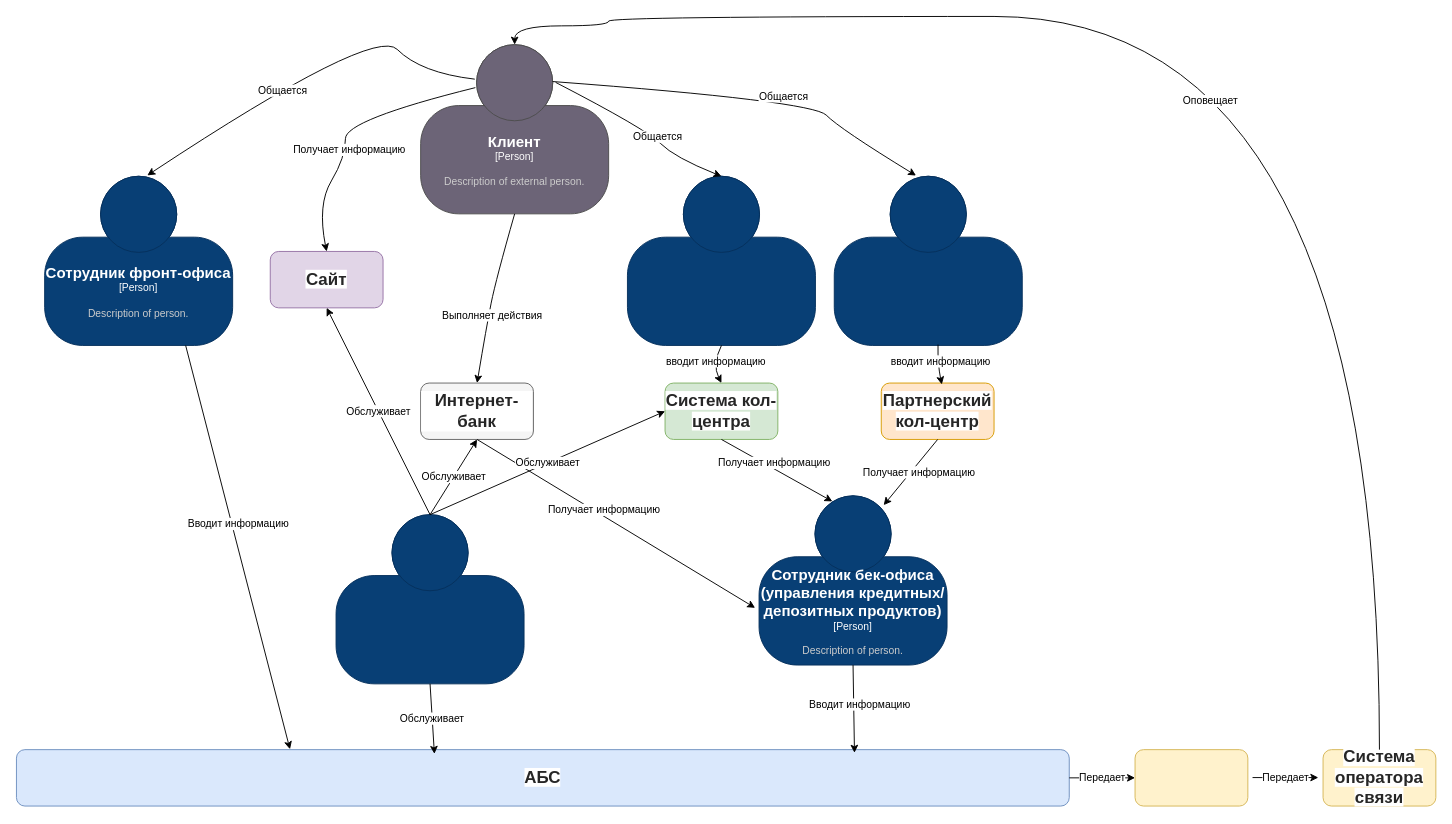
Image size: 1452x824. Some labels were removed from this diagram. Here are the shapes that lost their labels. From the top down, the centre of each, then its label:
At point 721,260: "Оператор кол-центра [Person] Description of person.".
At point 927,260: "Оператор внешнего кол-центра [Person] Description of person.".
At point 429,599: "Сотрудник ИТ [Person] Description of person.".
At point 1191,777: "СМС шлюз".
